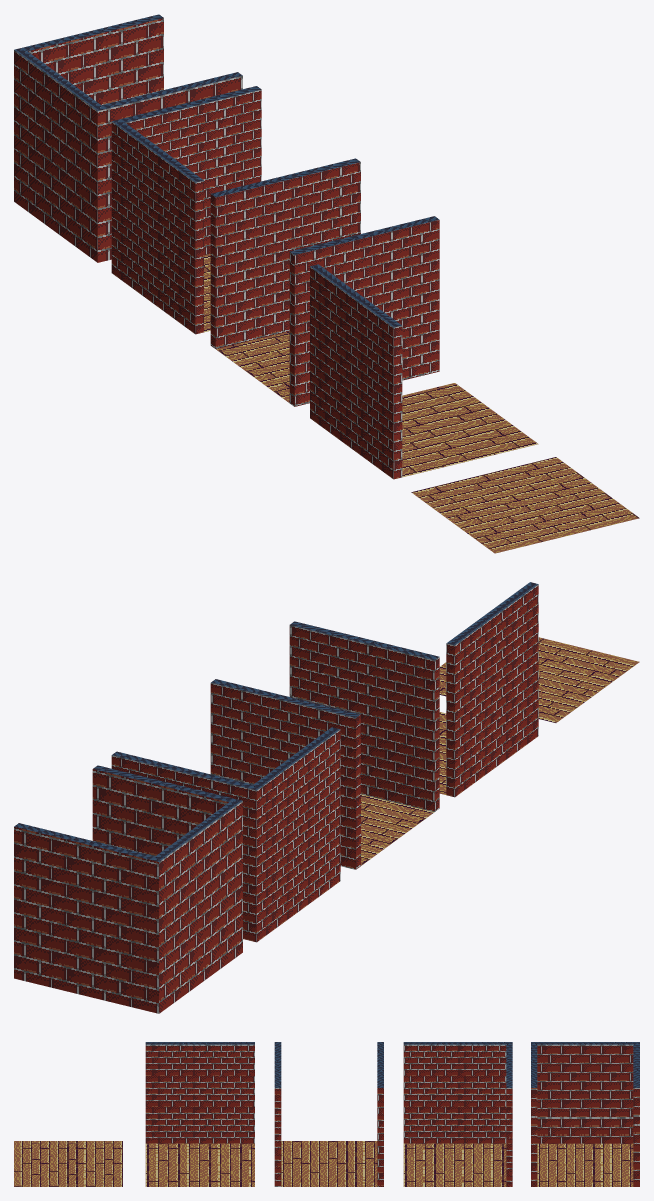
File: basic_maze.glb
The picture shows the model from 3 angles, top to bottom: view 1: azimuth 30°, elevation 25°; view 2: azimuth 150°, elevation 25°; view 3: azimuth 270°, elevation 25°; orthographic projection. The views are drawn at different scales.
Parts seen in each view (by area): view 1: Hallway, Deadend, Corner, Junction, Allway; view 2: Deadend, Hallway, Corner, Junction, Allway; view 3: Corner, Junction, Deadend, Hallway, Allway.
Boxes of the visible parts, bbox=[...] form: Hallway: bbox=[210, 158, 439, 406]; Deadend: bbox=[14, 14, 242, 262]; Corner: bbox=[111, 86, 261, 334]; Junction: bbox=[310, 264, 538, 479]; Allway: bbox=[411, 457, 639, 553]; Deadend: bbox=[14, 765, 242, 1013]; Hallway: bbox=[210, 621, 439, 869]; Corner: bbox=[111, 727, 340, 942]; Junction: bbox=[439, 582, 538, 797]; Allway: bbox=[439, 637, 639, 722]; Corner: bbox=[403, 1042, 512, 1186]; Junction: bbox=[145, 1042, 254, 1186]; Deadend: bbox=[531, 1042, 639, 1186]; Hallway: bbox=[274, 1042, 383, 1186]; Allway: bbox=[14, 1141, 122, 1186].
Bounding box in the file's own units: 2 × 2 × 11.48.
3 materials, 3 textured.
